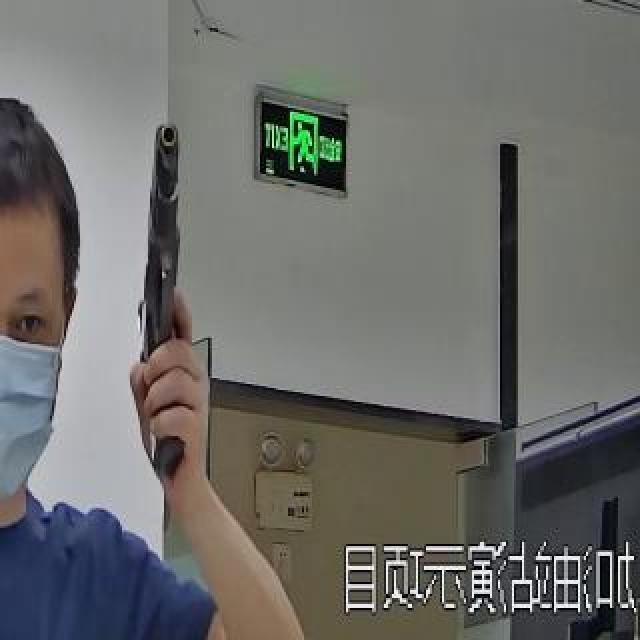Guns: (106, 102, 236, 514)
